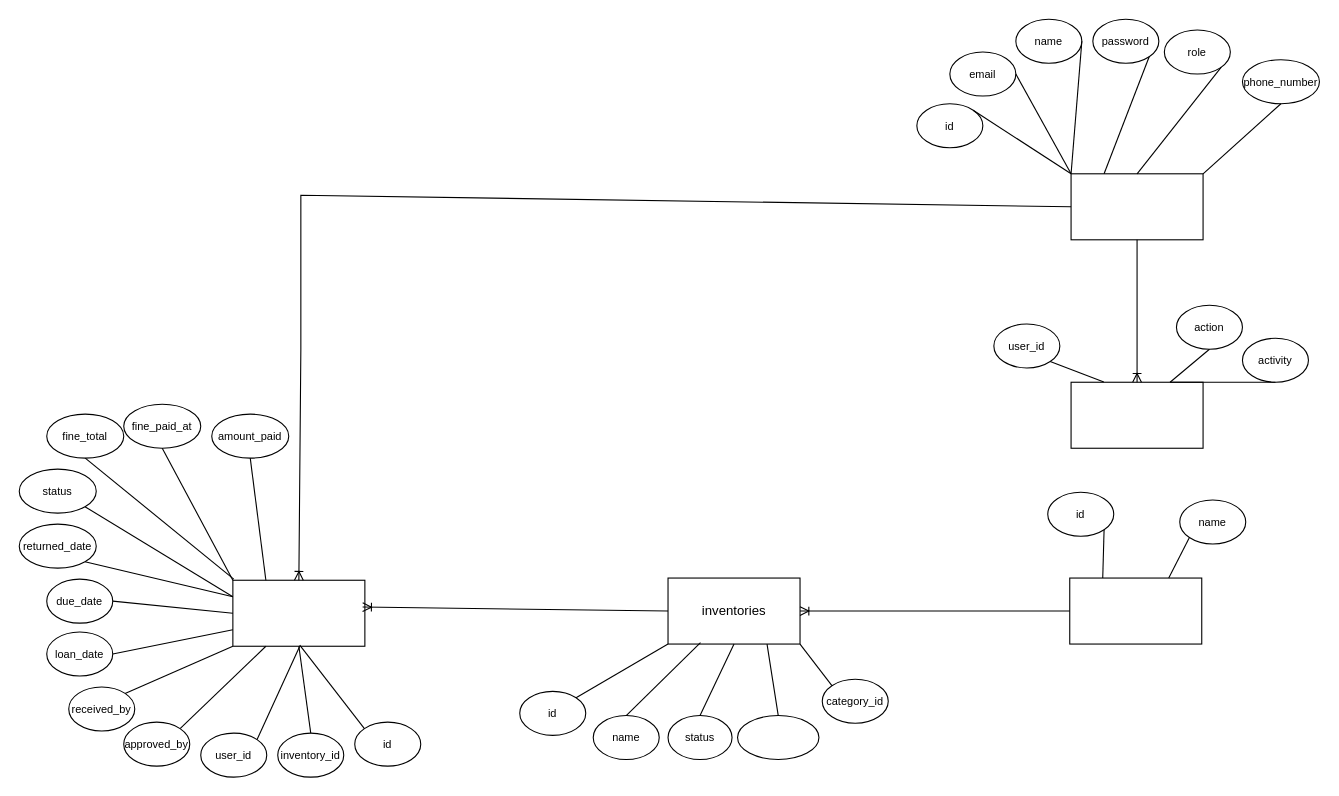
The diagram is 1339 pixels wide and 796 high, and some of its shapes have lost their labels. The shapes that lost their labels are listed below. From the top down, each one's centre as x and y in pixels, then its label:
At (x=1136, y=206): "User".
At (x=1136, y=414): "Activity_logs".
At (x=298, y=612): "loans".
At (x=1135, y=610): "categories".
At (x=777, y=737): "Item_code".
